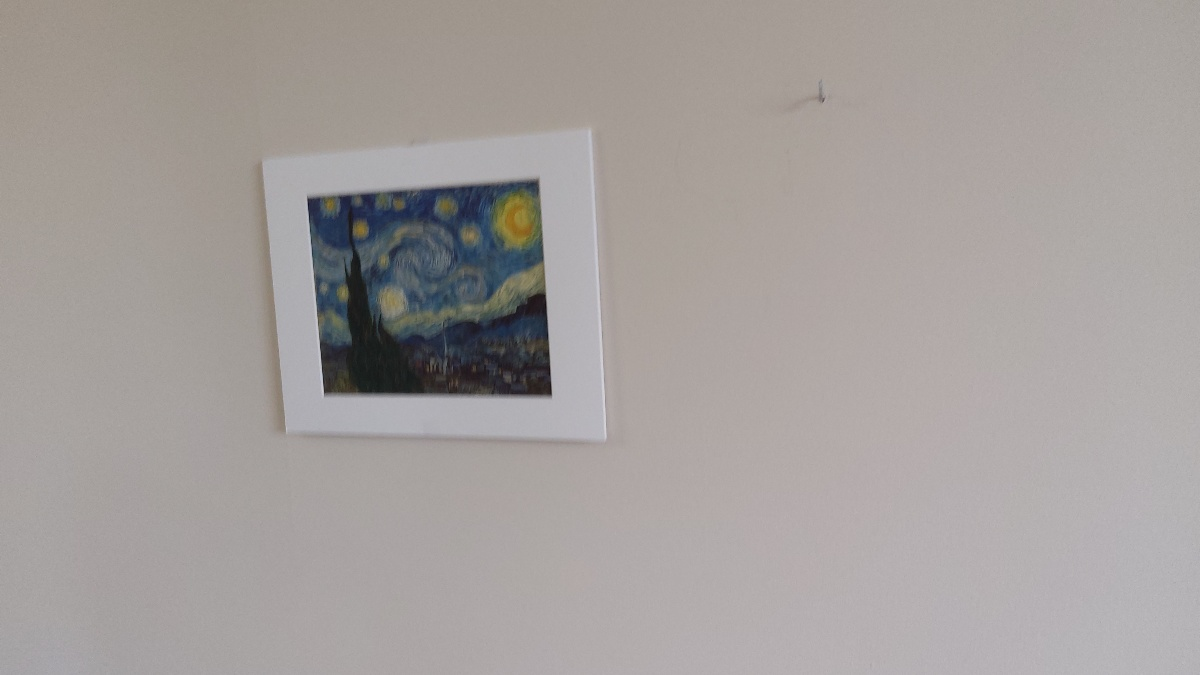painting: (294, 180, 566, 410)
